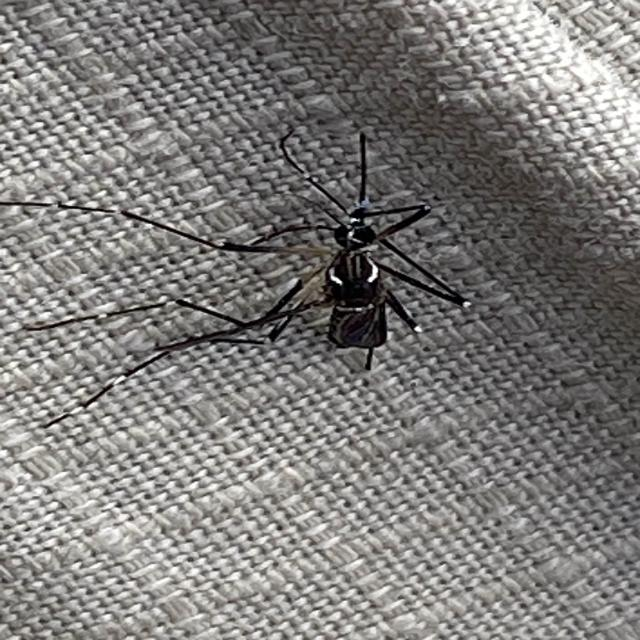aegypti: (13, 111, 486, 416)
